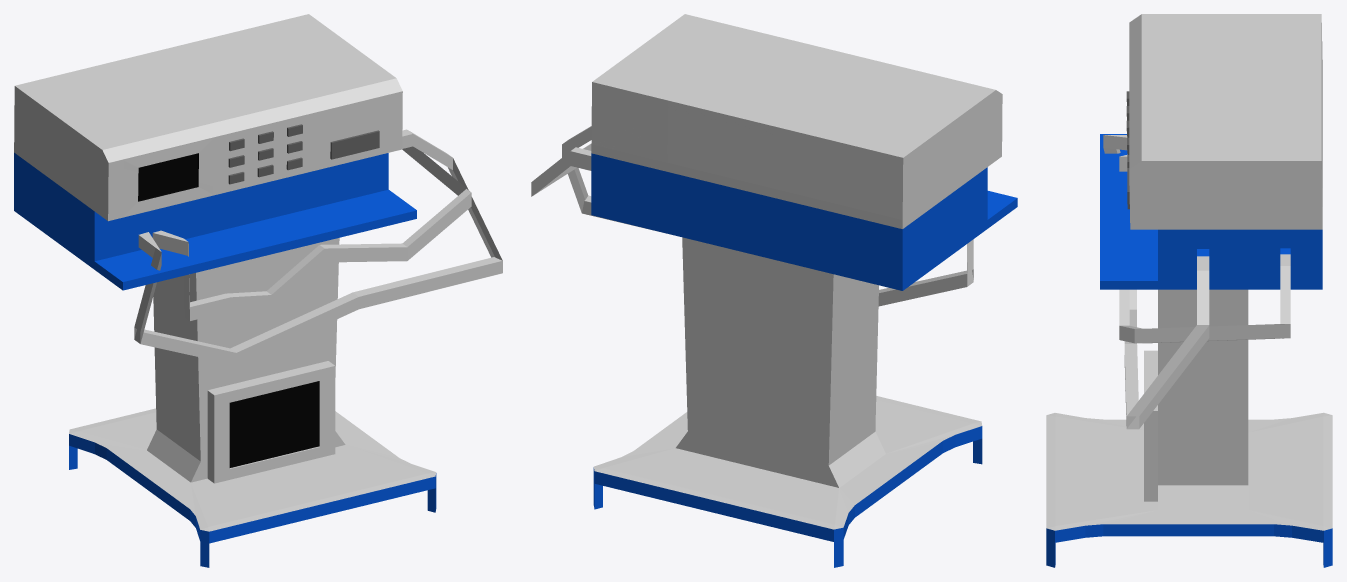
The model's file is stand.glb.
3 views of the same model, side by side, from view 1: azimuth 30°, elevation 25°; view 2: azimuth 150°, elevation 25°; view 3: azimuth 270°, elevation 25° (orthographic). The views are drawn at different scales.
Parts seen in each view (by area): view 1: Cube; view 2: Cube; view 3: Cube.
Part boxes in pixels (bbox=[...]): Cube: bbox=[14, 14, 502, 567]; Cube: bbox=[531, 14, 1017, 567]; Cube: bbox=[1046, 14, 1332, 567].
Bounding box in the file's own units: 64.96 × 63.03 × 40.
